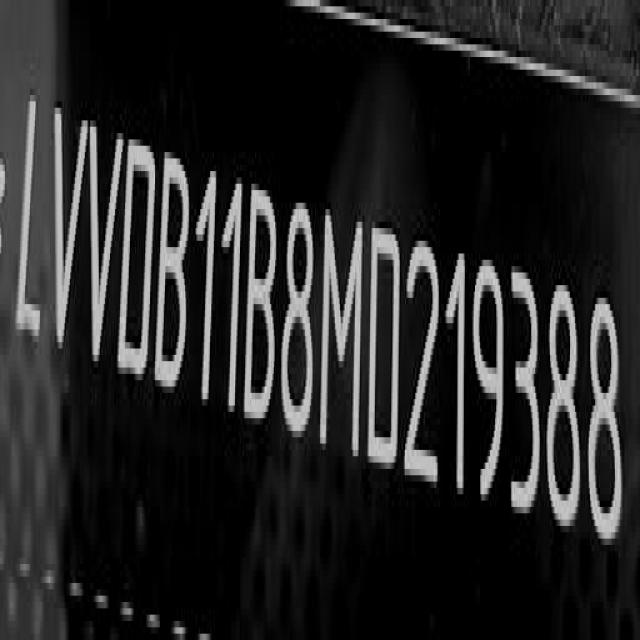1: (442, 239, 468, 508), (220, 168, 244, 422), (197, 151, 216, 406)
2: (401, 214, 442, 504)
3: (507, 254, 542, 517)
8: (585, 298, 624, 546), (280, 198, 316, 466), (546, 288, 581, 546)
9: (473, 255, 506, 508)
B: (154, 138, 189, 381), (246, 181, 276, 431)
D: (363, 198, 402, 472), (118, 125, 155, 381)
L: (18, 77, 44, 349)
M: (322, 204, 363, 460)
V: (50, 90, 87, 362), (84, 122, 124, 356)
